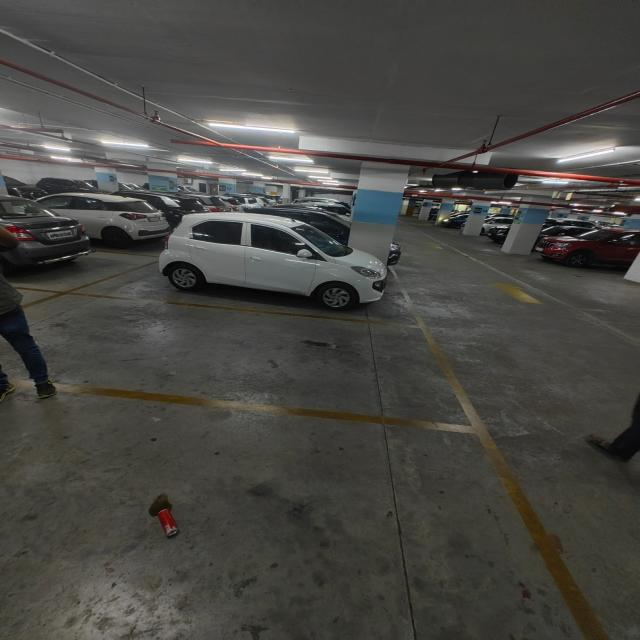cup: (156, 509, 178, 536), (328, 341, 338, 349)
spill: (149, 490, 174, 518), (300, 338, 328, 348)
